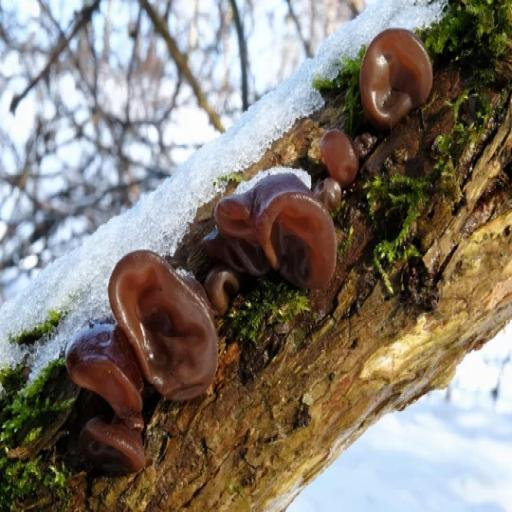mushroom: (208, 157, 342, 307), (59, 309, 166, 486), (103, 247, 225, 390), (354, 29, 436, 131), (312, 125, 361, 215)
